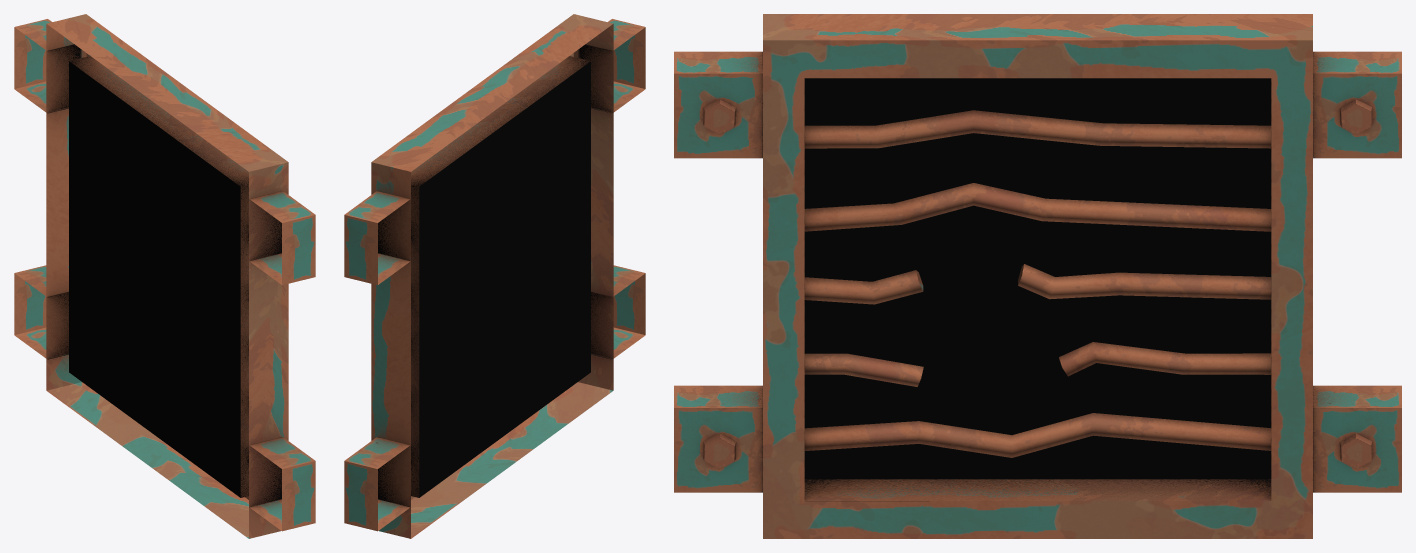
Rendered from window_1_var2.fbx.
3 renders of one model, left to right at view 1: azimuth 30°, elevation 25°; view 2: azimuth 150°, elevation 25°; view 3: azimuth 270°, elevation 25°, orthographic. The views are drawn at different scales.
Visible parts, largest first — view 1: Window.001; view 2: Window.001; view 3: Window.001.
Part boxes in pixels (bbox=[...]): Window.001: bbox=[14, 14, 315, 538]; Window.001: bbox=[344, 14, 645, 538]; Window.001: bbox=[674, 14, 1401, 538].
Size of the model in its own units: 22.68 by 200 by 265.
Materials: 1 (1 with a texture image).
